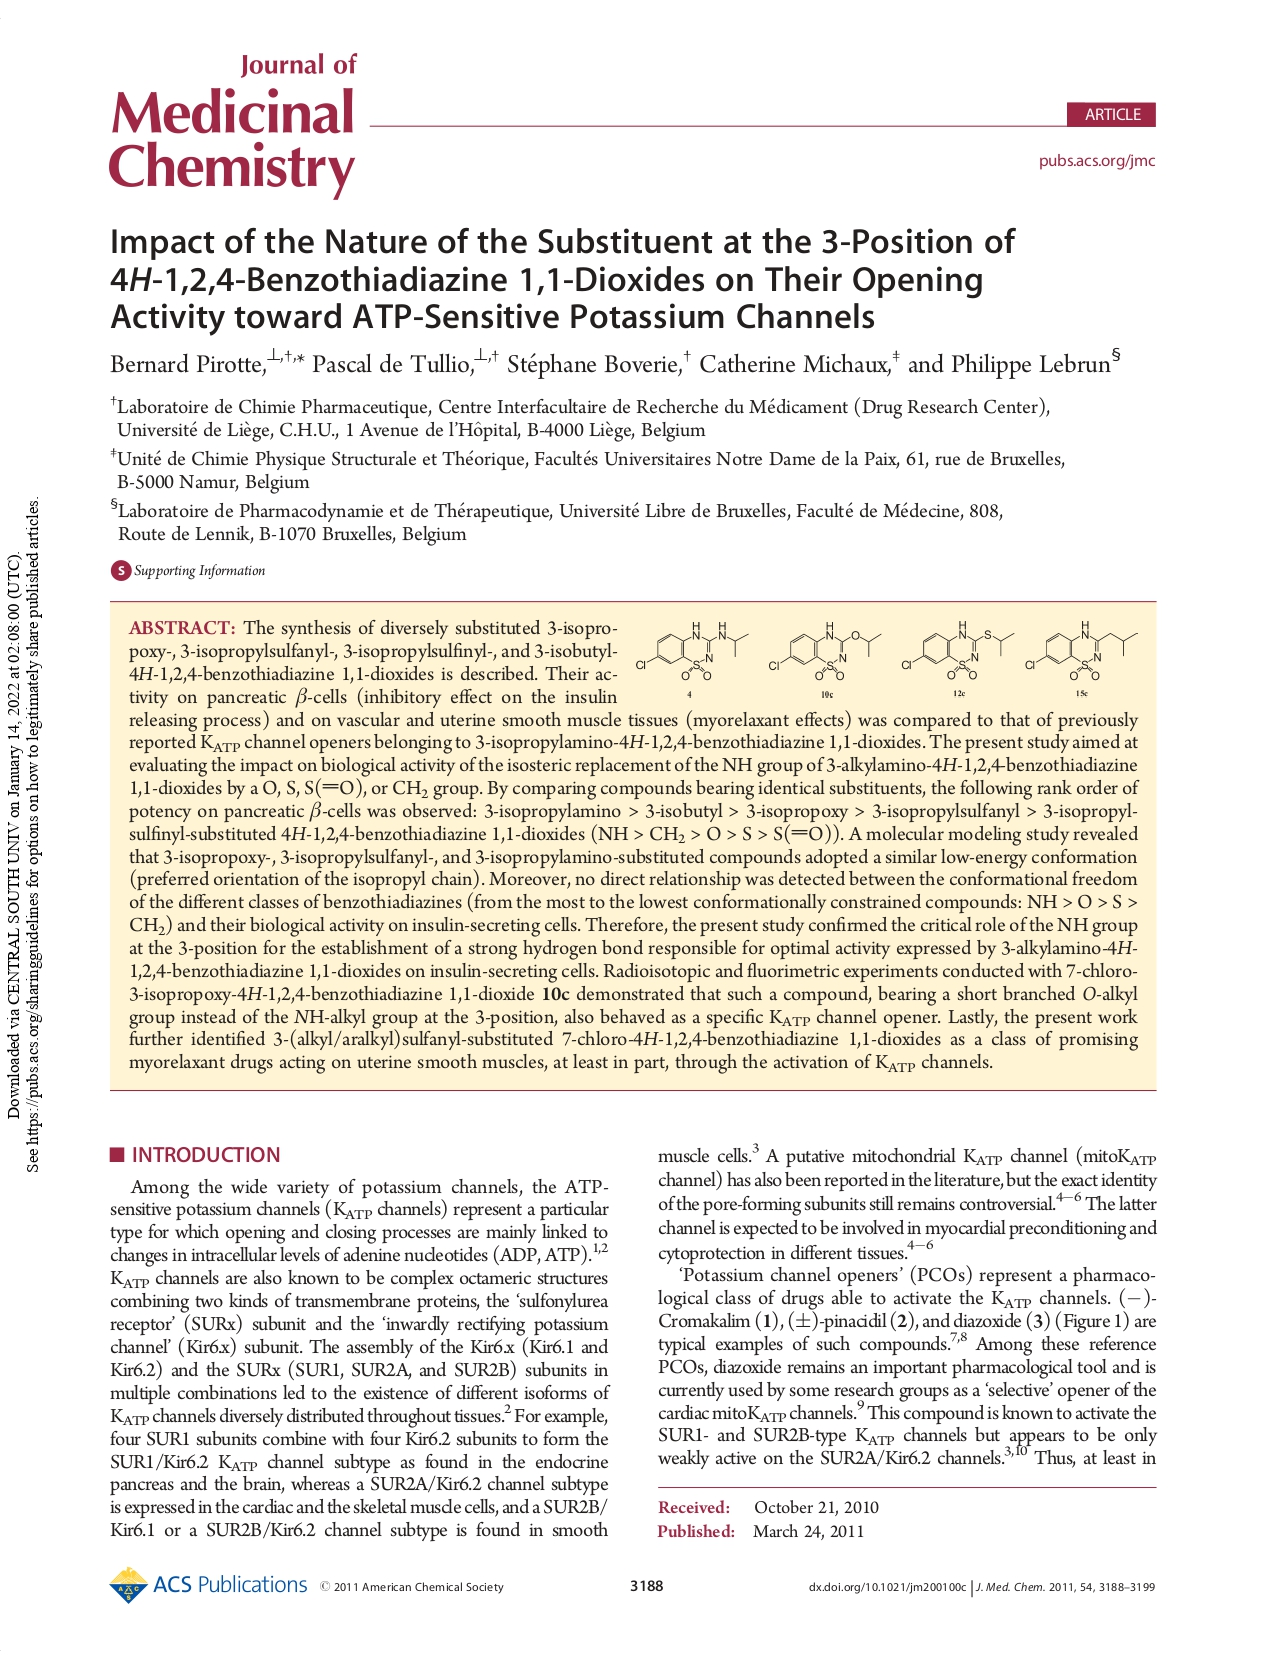exist_molecular: (632, 617, 751, 686), (898, 617, 1016, 684), (1023, 617, 1142, 680), (765, 618, 883, 681)
